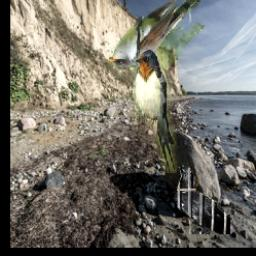Crow: (177, 166, 230, 235)
Cuckoo: (108, 0, 204, 70)
Swallow: (132, 51, 176, 174)
